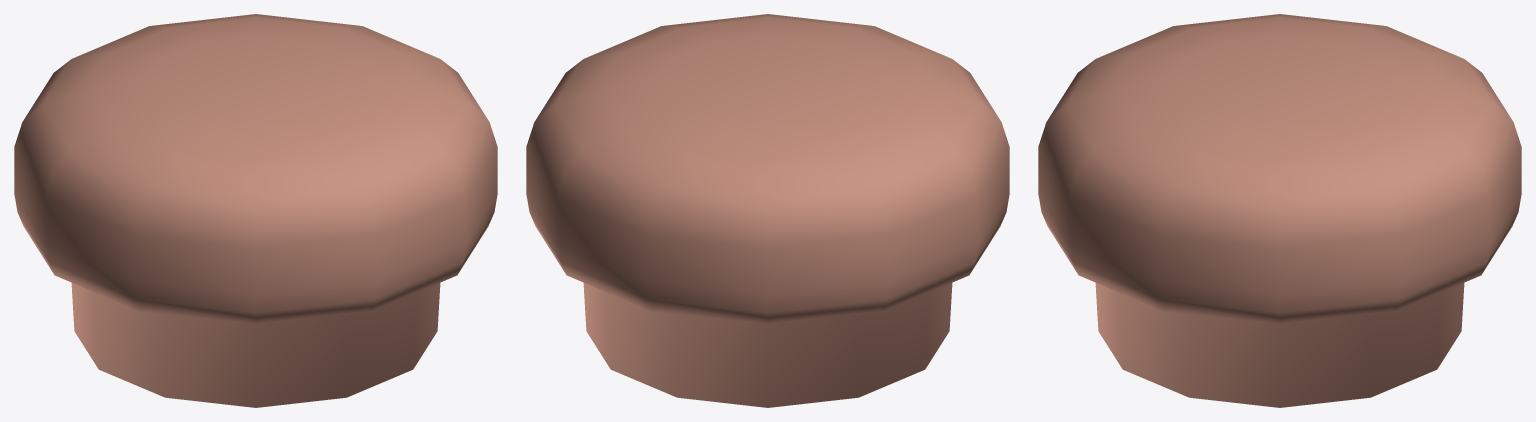
Rendered from rolhaFrascoQuadrado.fbx.
3 views of the same model, side by side, from view 1: azimuth 30°, elevation 25°; view 2: azimuth 150°, elevation 25°; view 3: azimuth 270°, elevation 25° (orthographic).
Parts seen in each view (by area): view 1: Rolha; view 2: Rolha; view 3: Rolha.
Part boxes in pixels (left/top/right/bottom): Rolha: left=14, top=14, right=497, bottom=407; Rolha: left=526, top=14, right=1009, bottom=407; Rolha: left=1038, top=14, right=1521, bottom=407.
Bounding box in the file's own units: 137 × 79.45 × 137.
